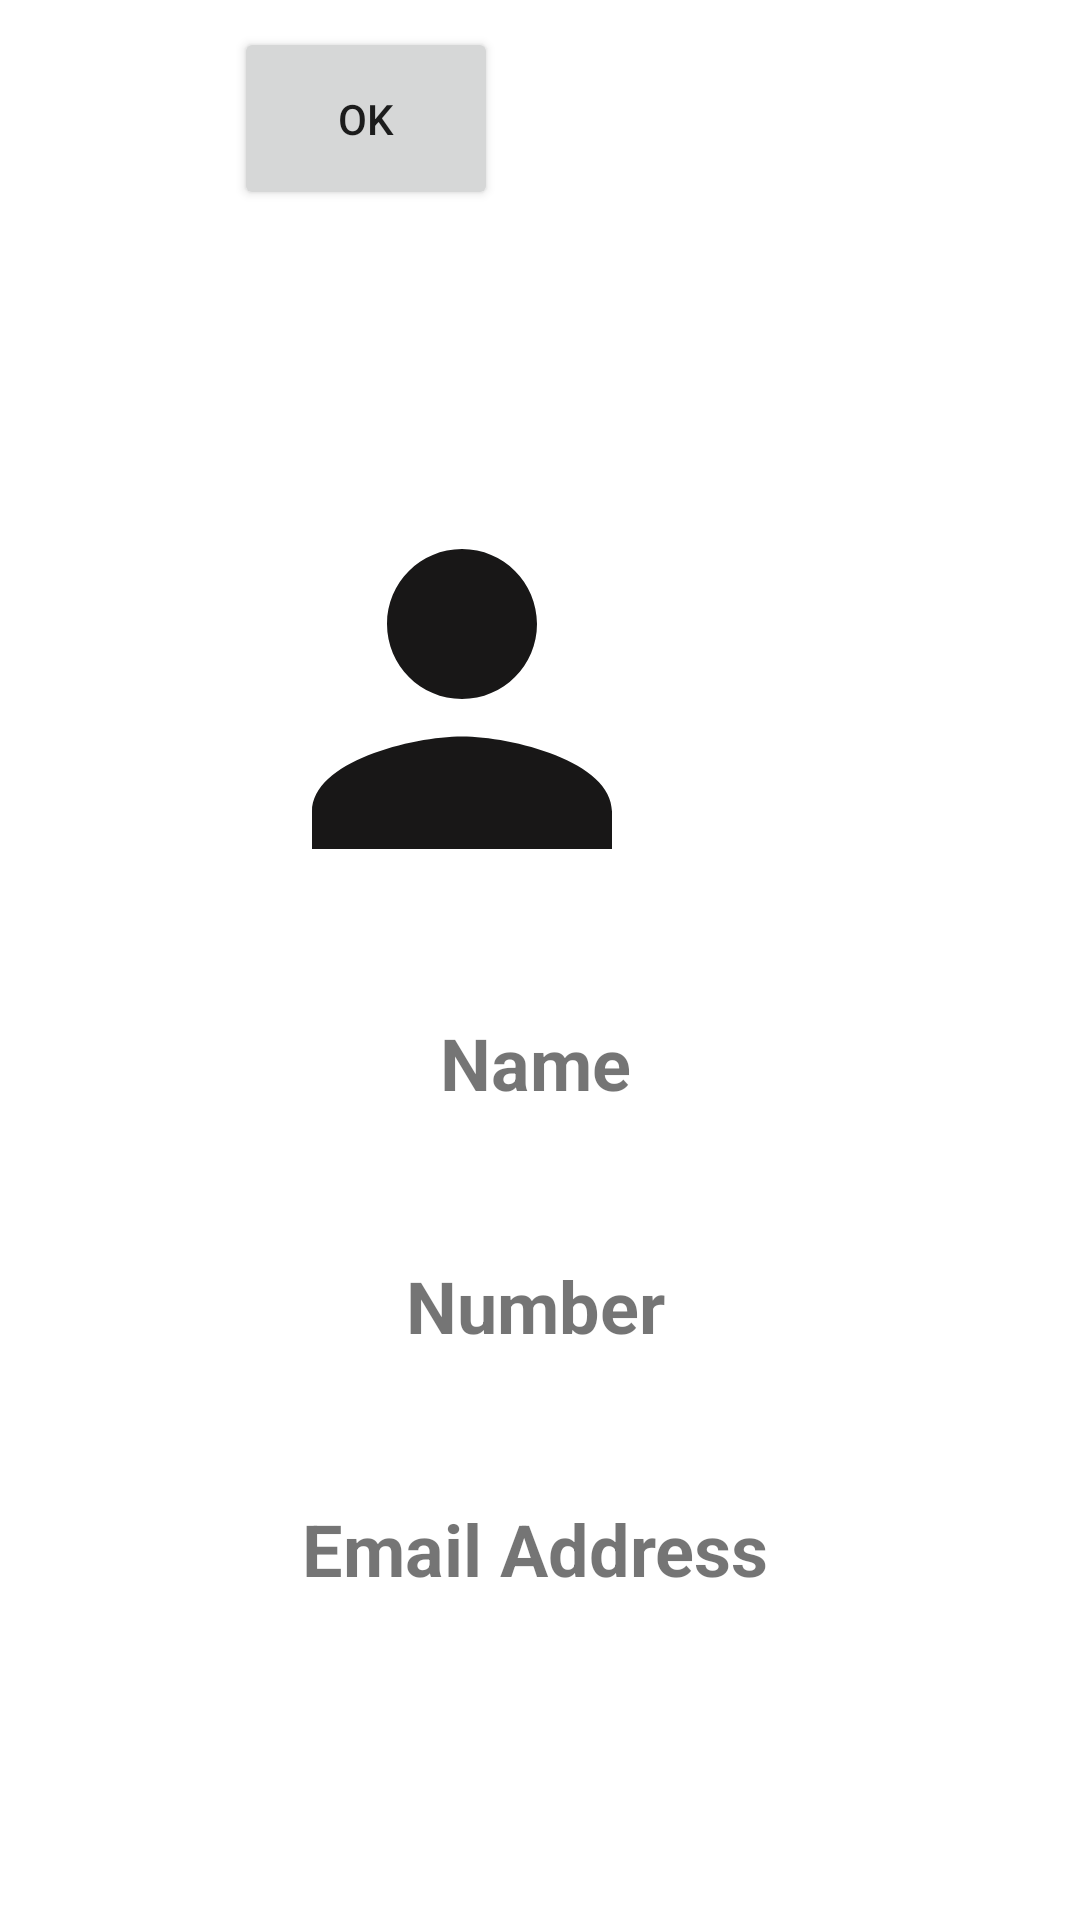

Where to tap for icons on this 1080×1920 app screen, as point (x, y):
person: point (462, 699)
